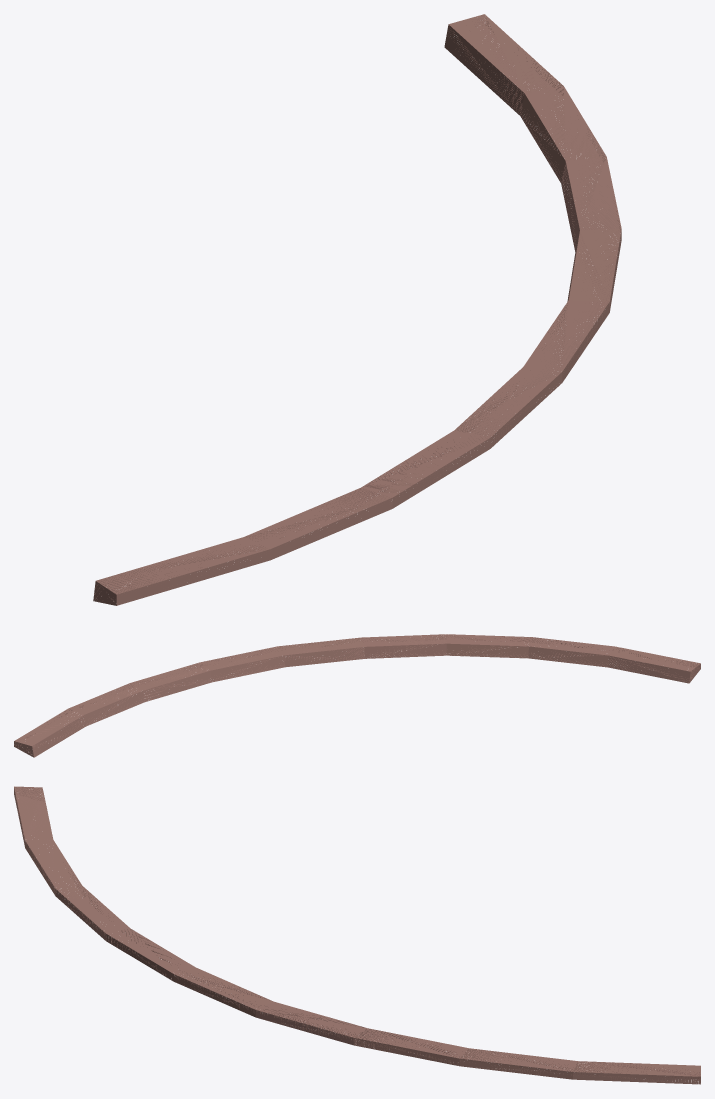
Rendered from SW_ENV_EL_TrackBase_Walkway_SingleOuter_Side_B_Collision.fbx.
3 renders of one model, top to bottom at view 1: azimuth 30°, elevation 25°; view 2: azimuth 150°, elevation 25°; view 3: azimuth 270°, elevation 25°, orthographic. The views are drawn at different scales.
Visible parts, largest first — view 1: SW_ENV_EL_TrackBase_Walkway_SingleOuter_Side_B_Collision; view 2: SW_ENV_EL_TrackBase_Walkway_SingleOuter_Side_B_Collision; view 3: SW_ENV_EL_TrackBase_Walkway_SingleOuter_Side_B_Collision.
Boxes of the visible parts, x1,y1,x2,y2 form: SW_ENV_EL_TrackBase_Walkway_SingleOuter_Side_B_Collision: (93, 14, 621, 605); SW_ENV_EL_TrackBase_Walkway_SingleOuter_Side_B_Collision: (14, 634, 700, 757); SW_ENV_EL_TrackBase_Walkway_SingleOuter_Side_B_Collision: (14, 786, 700, 1084).
Size of the model in its own units: 3245 by 83.5 by 3245.
